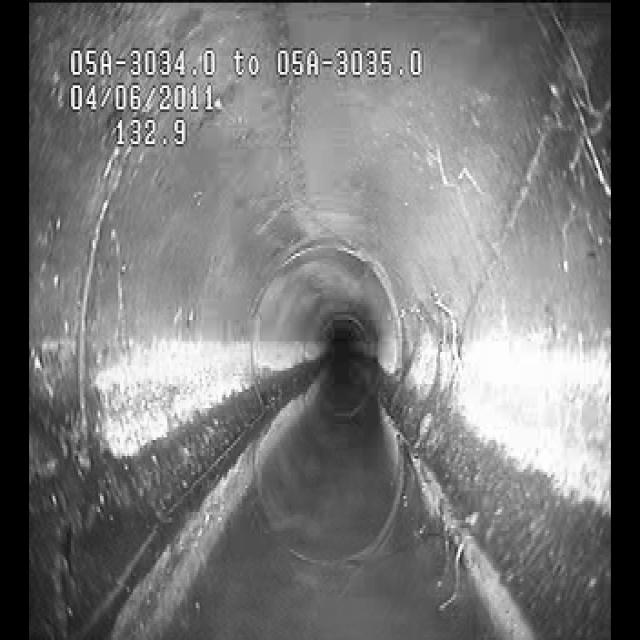Crack: (421, 137, 533, 383)
